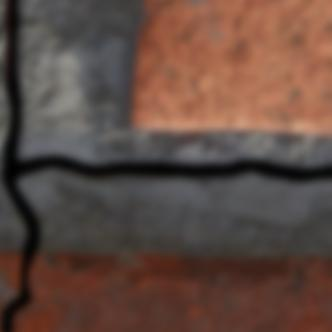brick: (131, 0, 331, 134)
broken_brick: (13, 251, 331, 331), (0, 250, 20, 321)
crack: (0, 0, 331, 331), (68, 255, 82, 271)
